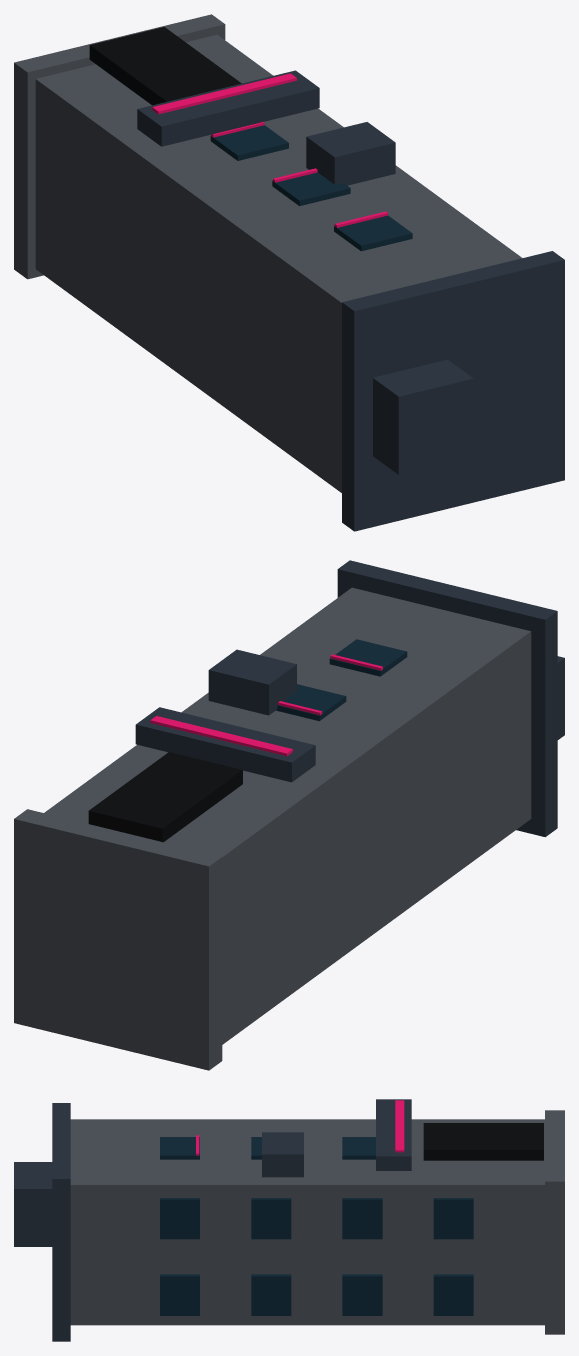
File: ENV_building_hotel.obj
The picture shows the model from 3 angles, top to bottom: view 1: azimuth 30°, elevation 25°; view 2: azimuth 150°, elevation 25°; view 3: azimuth 270°, elevation 25°; orthographic projection. The views are drawn at different scales.
Parts seen in each view (by area): view 1: ENV_building_hotel; view 2: ENV_building_hotel; view 3: ENV_building_hotel.
Boxes of the visible parts, x1,y1,x2,y2 form: ENV_building_hotel: [14, 14, 564, 531]; ENV_building_hotel: [14, 560, 564, 1070]; ENV_building_hotel: [14, 1099, 564, 1341].
Size of the model in its own units: 1.97 by 2.16 by 6.04.
